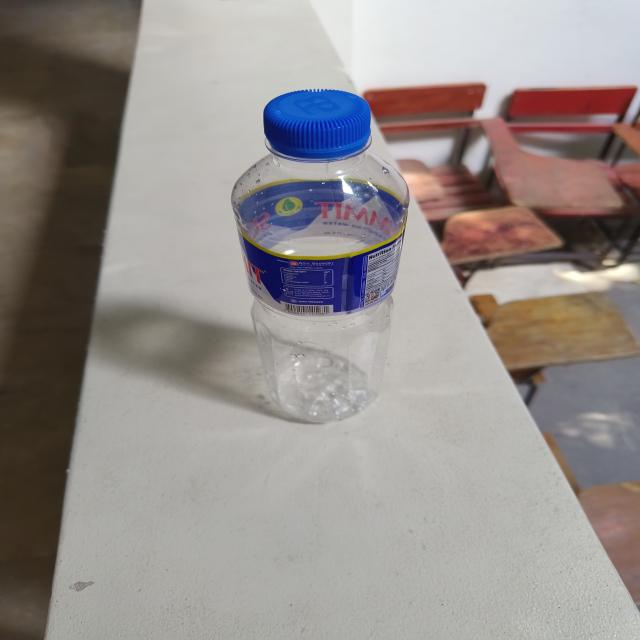Bottle: (232, 89, 410, 423)
